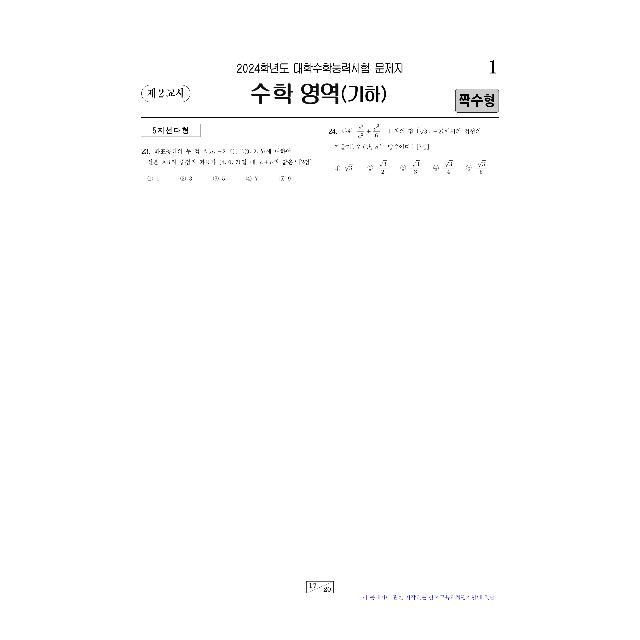multiple: (325, 120, 501, 180), (136, 142, 316, 188)
